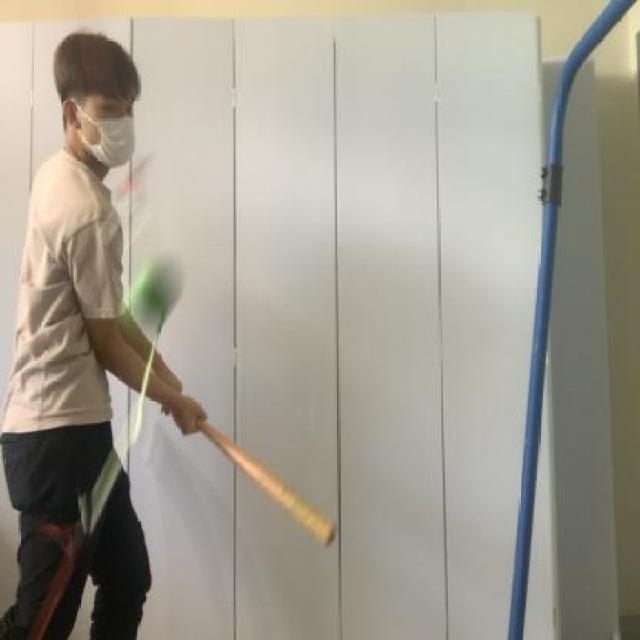baseball: (125, 238, 188, 329)
